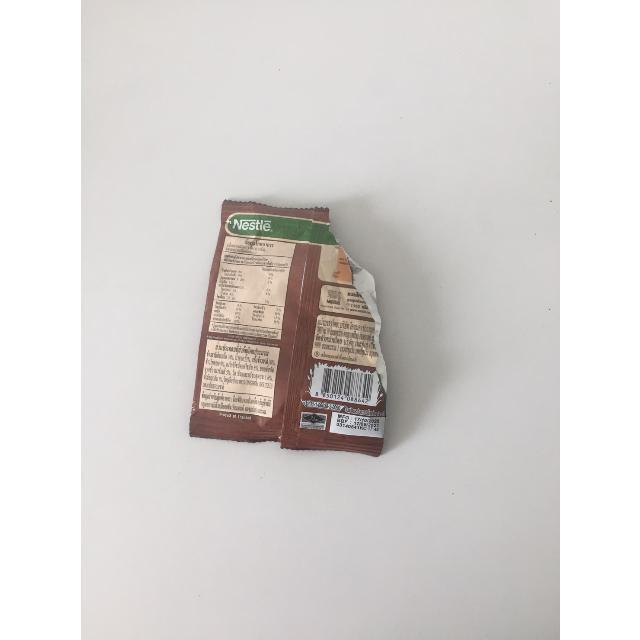Paquete de plastico: (190, 200, 386, 454)
